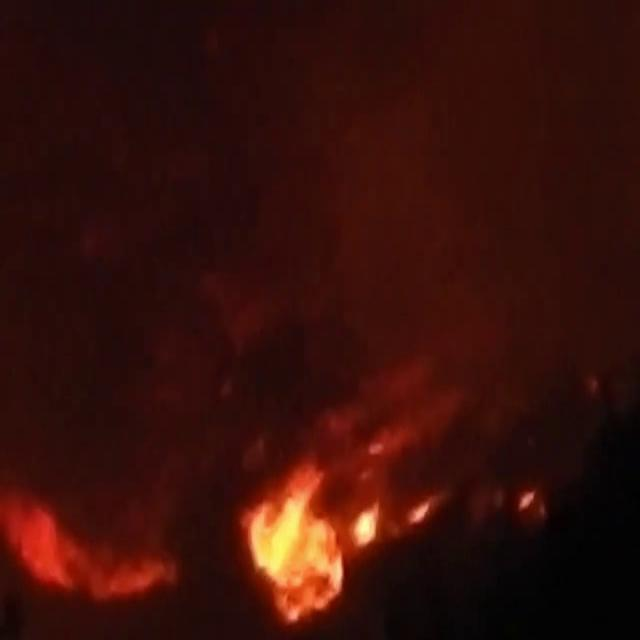Fire: (17, 466, 180, 628), (318, 362, 451, 555), (243, 492, 342, 626), (506, 472, 542, 526)
Smoke: (370, 26, 640, 310), (1, 21, 278, 292), (8, 331, 305, 464), (444, 563, 574, 632), (566, 503, 630, 629)
